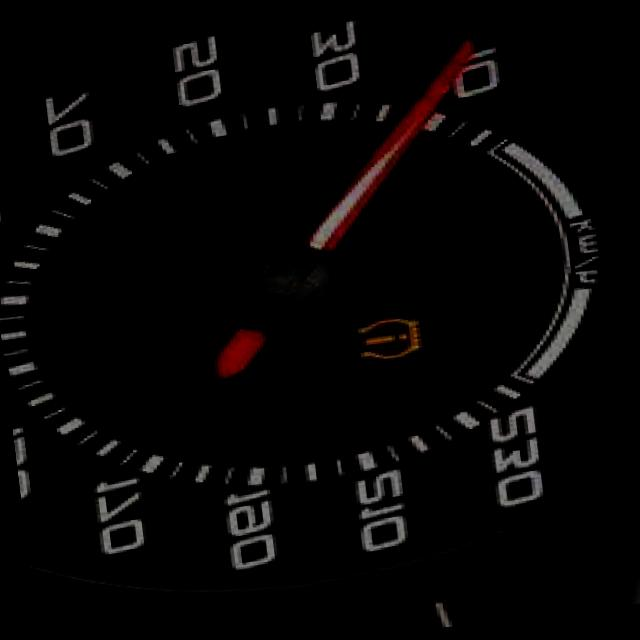kontrolka: (342, 305, 438, 385)
